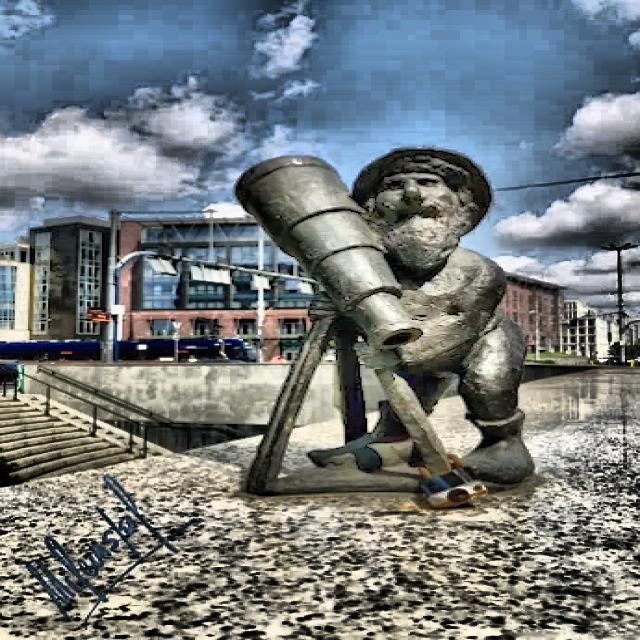Lunetyk: (234, 149, 534, 507)
